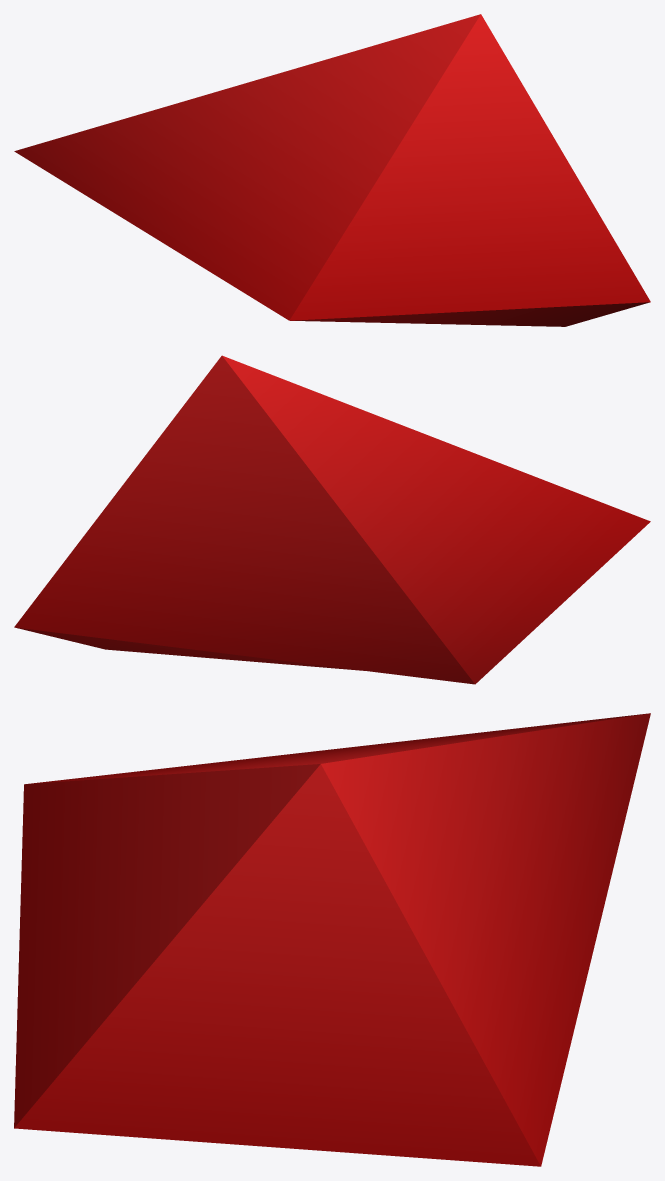
File: c_roof_square_ae.fbx
The picture shows the model from 3 angles, top to bottom: view 1: azimuth 30°, elevation 25°; view 2: azimuth 150°, elevation 25°; view 3: azimuth 270°, elevation 25°; orthographic projection. The views are drawn at different scales.
Visible parts, largest first — view 1: c_roof_square_ae; view 2: c_roof_square_ae; view 3: c_roof_square_ae.
Boxes of the visible parts, box(x1,y1,x2,y2) form: c_roof_square_ae: box(14, 14, 650, 326); c_roof_square_ae: box(14, 355, 650, 684); c_roof_square_ae: box(14, 713, 650, 1166).
Bounding box in the file's own units: 5.73 × 2.92 × 4.73.
